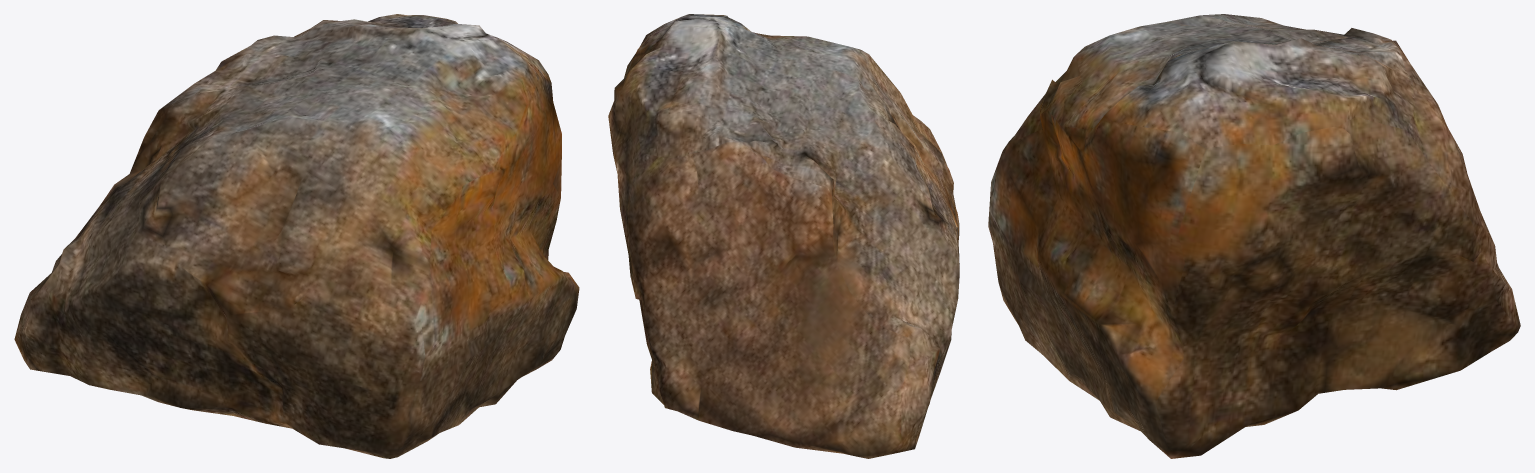
The model's file is namaqualand_boulder_04.lod.glb.
3 views of the same model, side by side, from view 1: azimuth 30°, elevation 25°; view 2: azimuth 150°, elevation 25°; view 3: azimuth 270°, elevation 25° (orthographic). The views are drawn at different scales.
Visible parts, largest first — view 1: boulder_04; view 2: boulder_04; view 3: boulder_04.
Part boxes in pixels (x1,y1,x2,y2): boulder_04: [14, 14, 579, 458]; boulder_04: [608, 14, 959, 458]; boulder_04: [988, 14, 1520, 458].
Bounding box in the file's own units: 2.52 × 1.89 × 2.49.
1 material, 1 textured.
